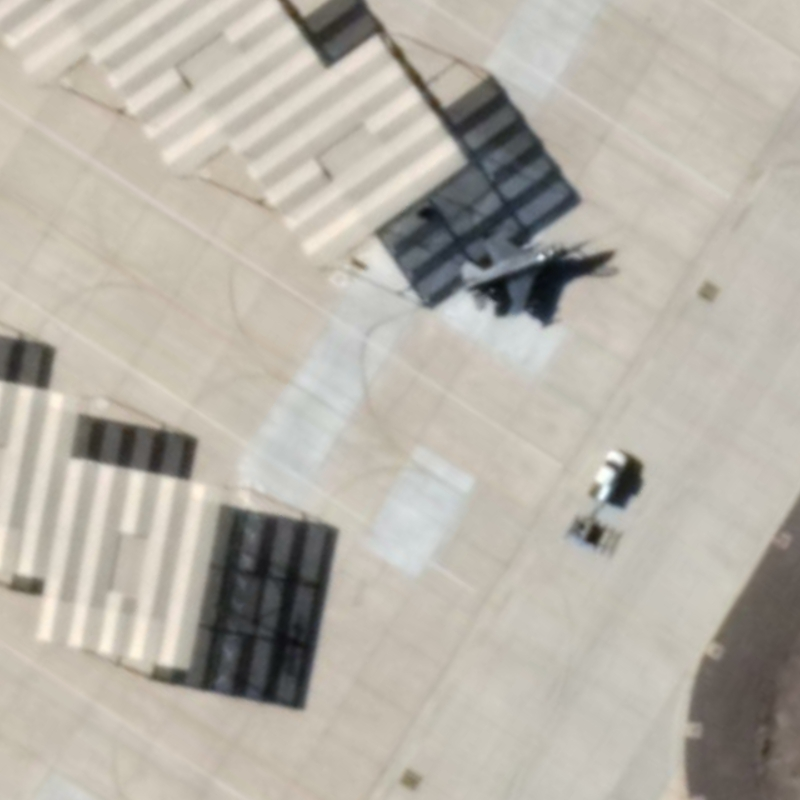A5: (454, 222, 603, 322)
